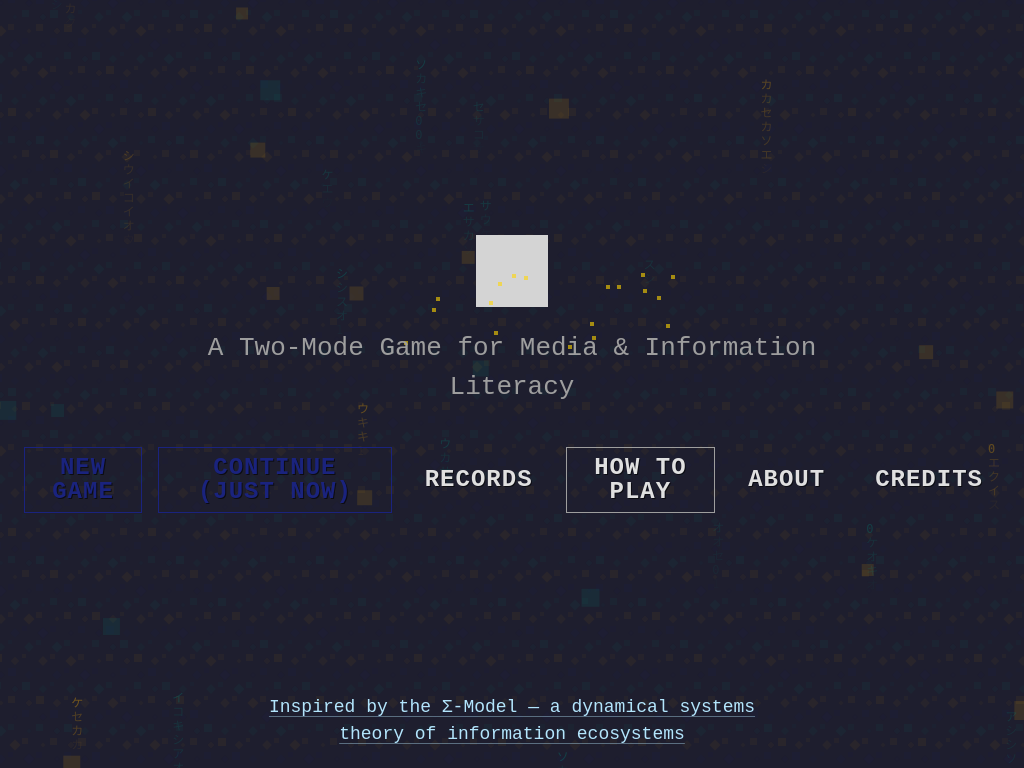
it: TitleScreen › opens Records modal and shows badge
Click the button "Records": (479, 480) [408, 447, 550, 513]
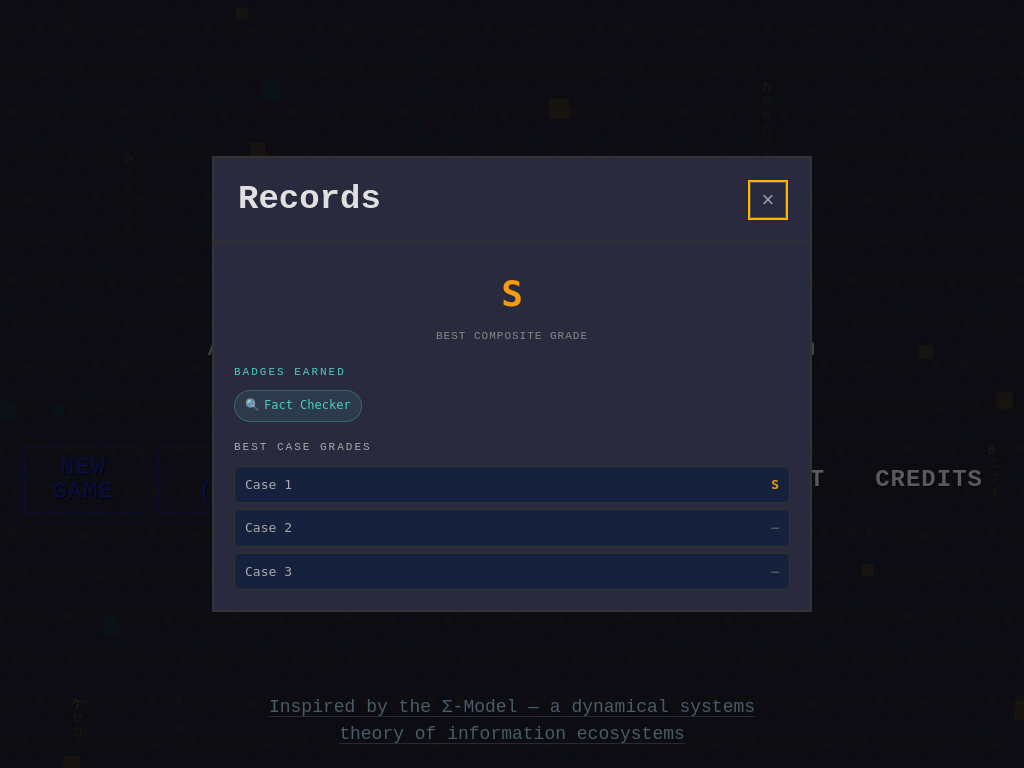
Expected: the text "Best Composite Grade" is shown, [436, 330, 588, 342]
Expected: the text "Badges Earned" is shown, [234, 366, 346, 378]
Expected: the text "Best Case Grades" is shown, [234, 441, 372, 453]
